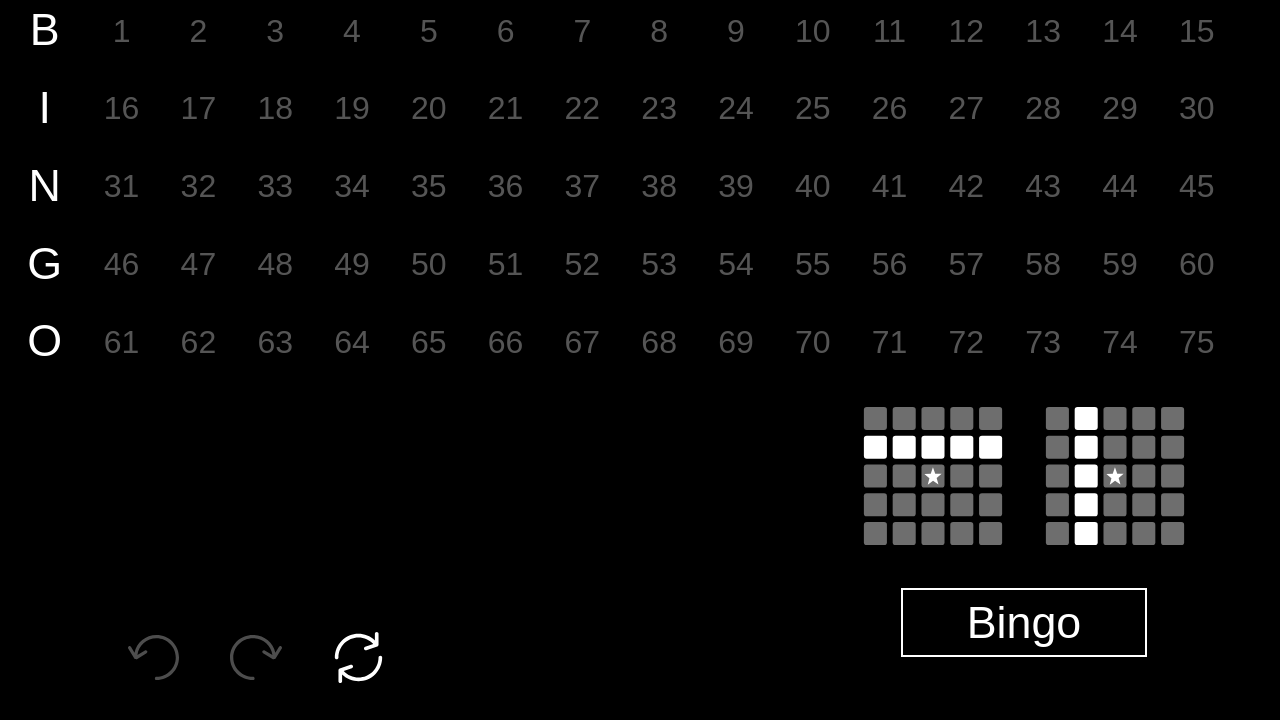
control mode › asks which version wins when the game changed elsewhere
The width and height of the screenshot is (1280, 720).
Click the button "7": (582, 31) [544, 4, 621, 59]
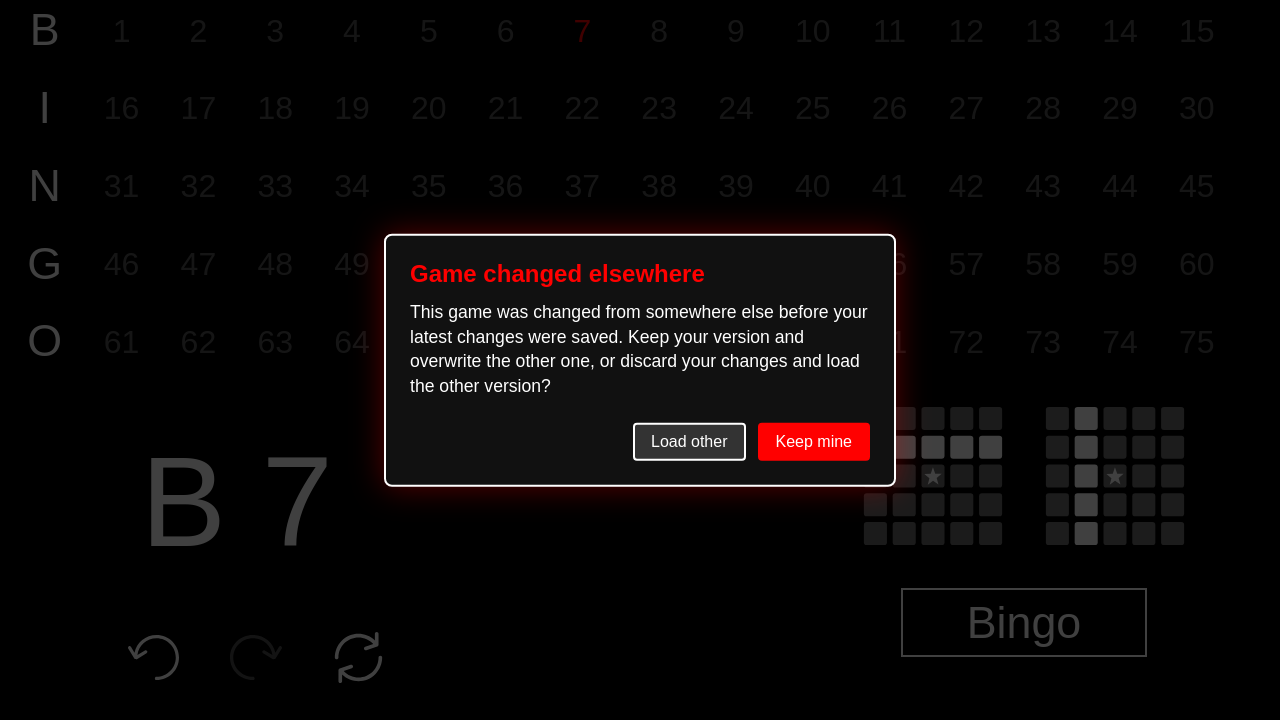
Click the button "Load other": (689, 441) [633, 422, 746, 460]
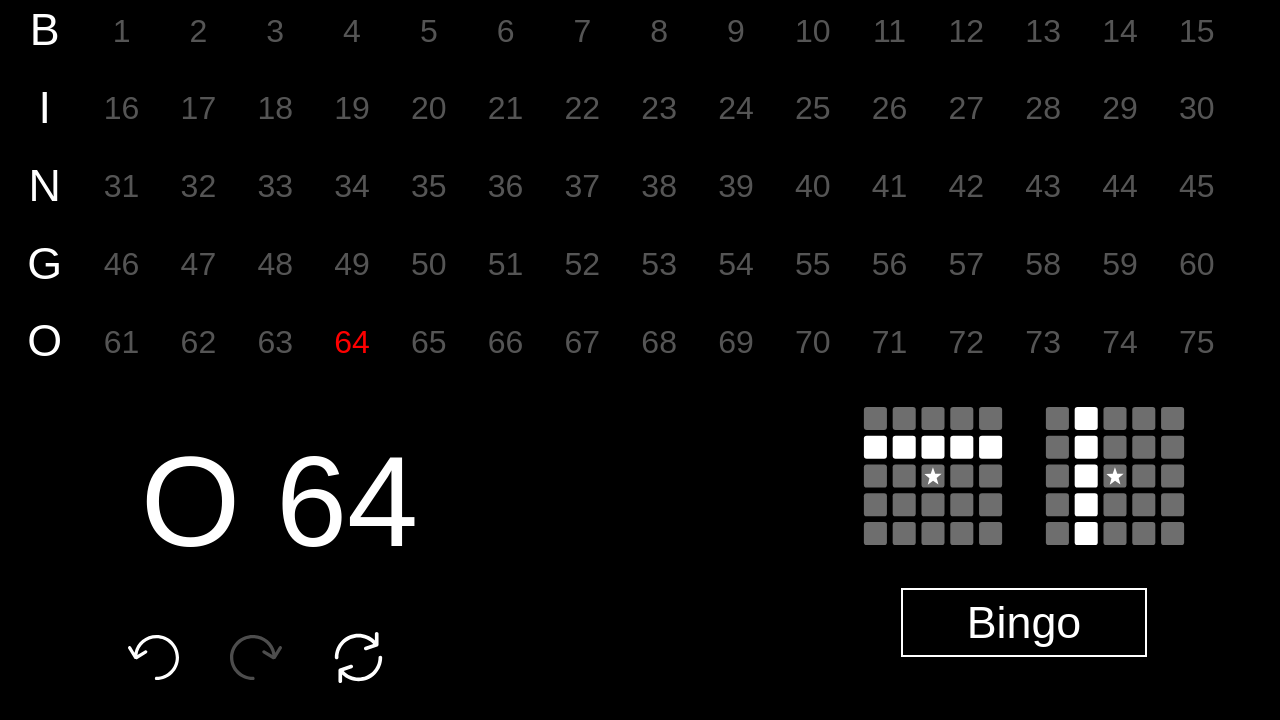
Now the button "7" is enabled, box [544, 4, 621, 59]
